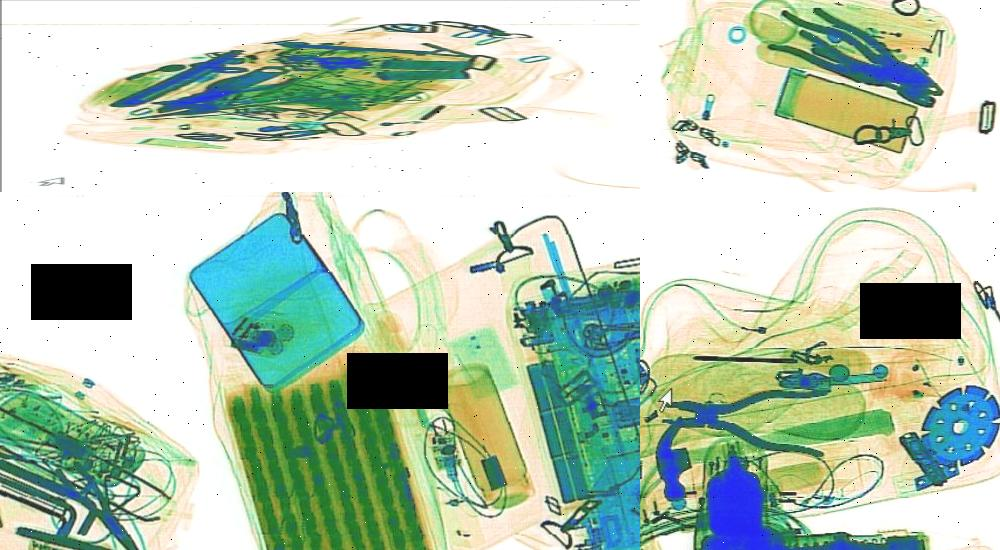Pliers: (756, 6, 944, 102), (789, 4, 959, 104), (662, 378, 832, 456), (44, 458, 162, 550), (134, 66, 309, 118), (118, 87, 366, 122)
Wrench: (140, 62, 312, 118)
